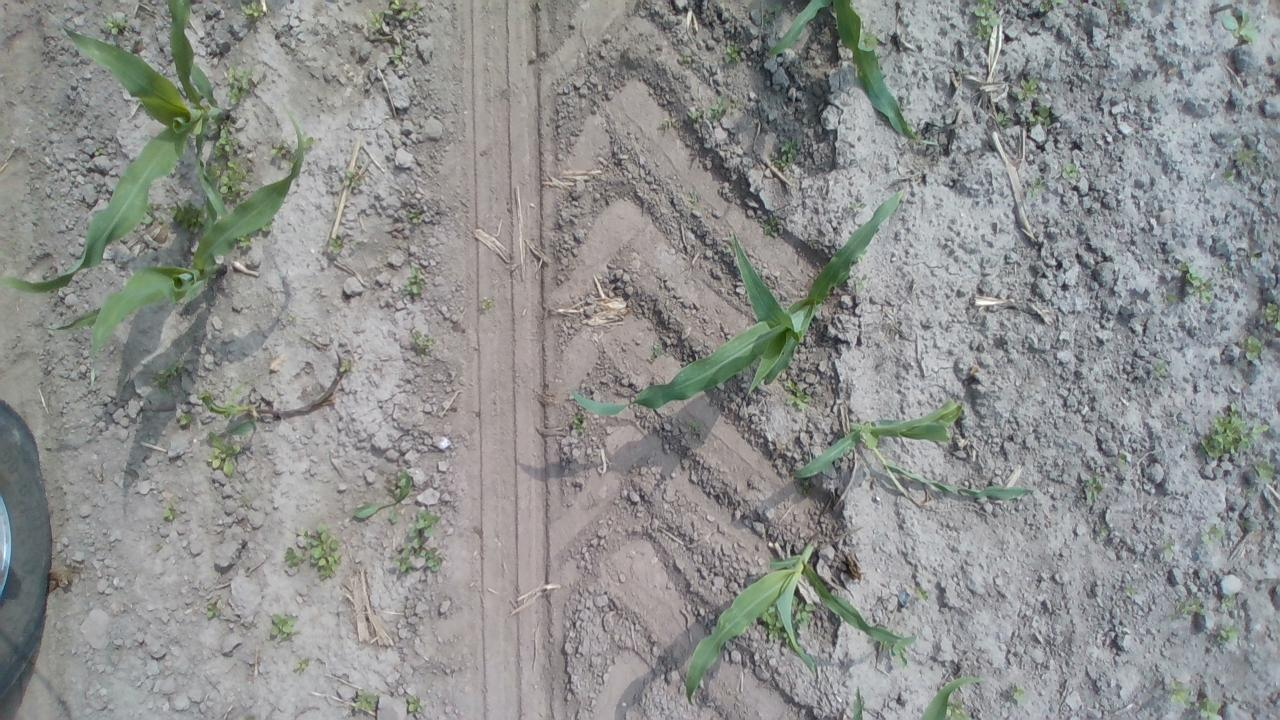Maize: (577, 184, 911, 417), (2, 1, 234, 296), (42, 113, 306, 372), (678, 534, 920, 706), (790, 397, 1036, 502), (764, 2, 937, 150), (848, 673, 986, 718)
Weeds: (1197, 400, 1272, 461), (389, 507, 445, 578), (207, 122, 250, 204), (353, 466, 413, 523), (284, 523, 344, 580), (196, 386, 260, 437), (1178, 258, 1218, 306), (206, 432, 244, 478), (1220, 7, 1258, 44), (151, 360, 191, 394), (686, 96, 736, 122), (972, 0, 1004, 40), (225, 64, 255, 106), (760, 604, 791, 644), (782, 376, 814, 412), (1228, 146, 1260, 181), (400, 263, 430, 298), (770, 138, 801, 171), (789, 594, 817, 626), (1168, 674, 1193, 709), (268, 613, 298, 642), (352, 685, 380, 715), (1082, 473, 1106, 506), (387, 0, 424, 20), (1239, 334, 1264, 362), (411, 331, 437, 356), (721, 38, 744, 66), (1176, 596, 1205, 618), (1252, 457, 1276, 483), (238, 0, 268, 20), (1028, 103, 1052, 127), (1016, 75, 1038, 101), (942, 700, 972, 719), (105, 14, 132, 34), (1024, 178, 1046, 202), (1216, 624, 1242, 644), (1200, 524, 1226, 544), (1197, 700, 1222, 720), (362, 8, 384, 30), (760, 214, 780, 237), (1260, 300, 1276, 328), (404, 694, 424, 716), (1060, 160, 1078, 182), (994, 107, 1014, 126), (1008, 683, 1026, 704), (342, 168, 360, 188), (1220, 592, 1238, 612), (570, 412, 586, 434), (268, 139, 286, 158), (846, 200, 868, 214), (390, 42, 404, 64), (292, 657, 311, 673), (854, 274, 870, 293), (686, 190, 700, 210), (1160, 536, 1174, 556), (162, 503, 177, 521), (177, 411, 194, 426), (327, 236, 342, 253), (1151, 363, 1167, 378), (204, 602, 218, 619), (799, 479, 814, 494), (408, 209, 423, 224), (650, 341, 664, 357), (687, 420, 702, 434), (916, 588, 931, 602), (1114, 0, 1128, 14), (680, 52, 694, 65), (1164, 291, 1178, 304), (339, 360, 353, 373), (658, 118, 673, 130), (304, 134, 316, 149), (1096, 524, 1110, 536), (1124, 584, 1136, 598), (1116, 453, 1128, 466), (1240, 517, 1252, 530), (93, 146, 107, 157), (261, 221, 272, 235), (1220, 263, 1232, 275)
